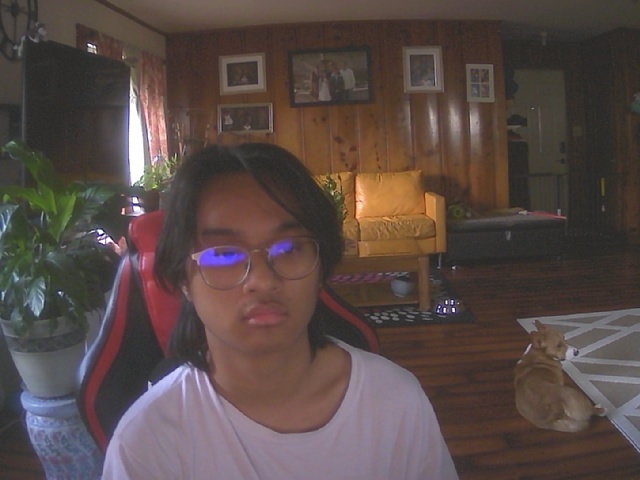neutral: (174, 145, 333, 356)
